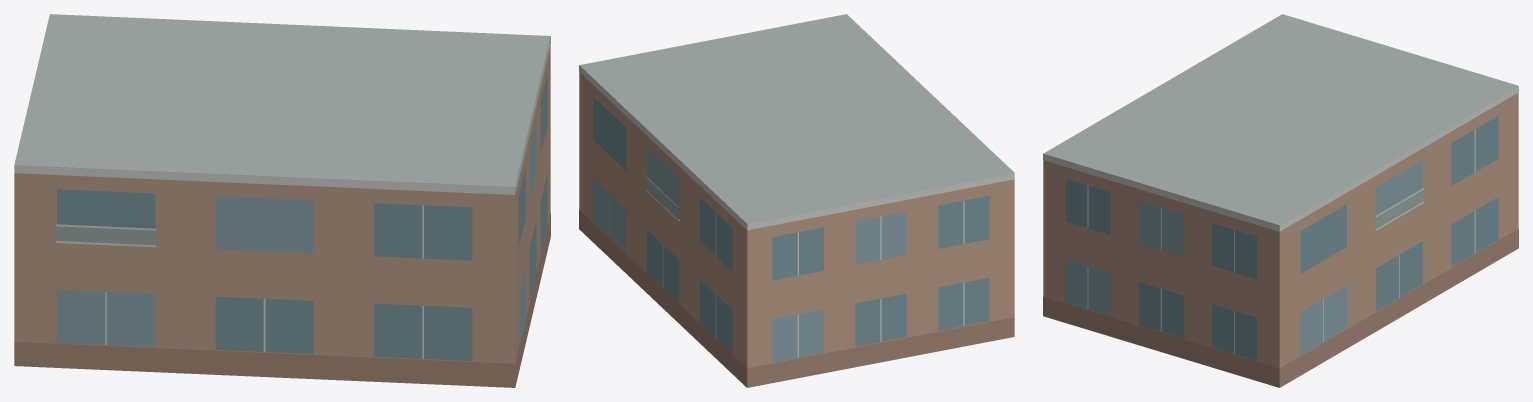
Rendered from survey-upis-32779232.glb.
3 views of the same model, side by side, from view 1: azimuth 30°, elevation 25°; view 2: azimuth 150°, elevation 25°; view 3: azimuth 270°, elevation 25° (orthographic). The views are drawn at different scales.
Parts seen in each view (by area): view 1: survey-upis-32779232.tmp; view 2: survey-upis-32779232.tmp; view 3: survey-upis-32779232.tmp.
Boxes of the visible parts, left/top/right/bottom form: survey-upis-32779232.tmp: left=14, top=14, right=550, bottom=387; survey-upis-32779232.tmp: left=579, top=14, right=1014, bottom=387; survey-upis-32779232.tmp: left=1043, top=14, right=1518, bottom=387.
Size of the model in its own units: 17.01 by 6.1 by 16.18.
